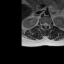CCS_normal: (44, 21, 46, 28)
LFS_normal: (48, 22, 49, 27)
LLS_normal: (46, 21, 48, 28)
RFS_normal: (41, 21, 43, 27)
RLS_normal: (42, 21, 44, 28)
